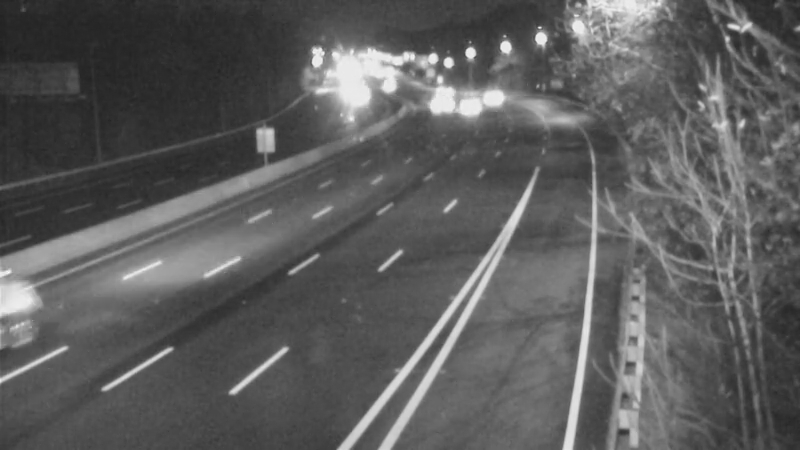vehicle: (443, 75, 493, 125), (411, 75, 461, 125), (470, 68, 520, 118), (416, 61, 466, 111)
